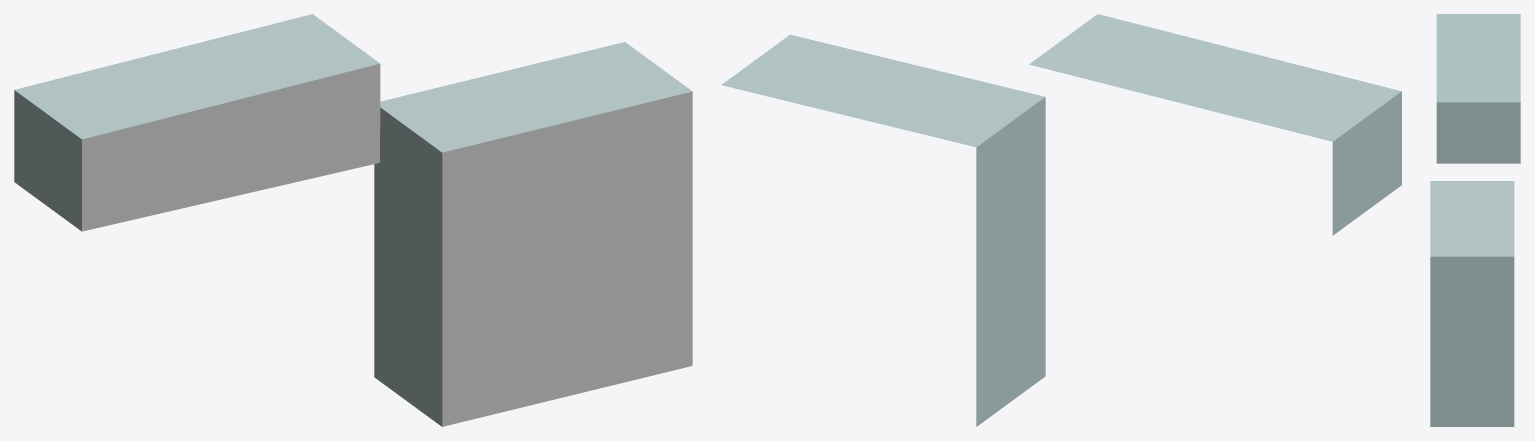
3 renders of one model, left to right at view 1: azimuth 30°, elevation 25°; view 2: azimuth 150°, elevation 25°; view 3: azimuth 270°, elevation 25°, orthographic. The views are drawn at different scales.
Visible parts, largest first — view 1: 0_3_1_2_0_3_0_3_0; view 2: 0_3_1_2_0_3_0_3_0; view 3: 0_3_1_2_0_3_0_3_0.
Boxes of the visible parts, x1,y1,x2,y2 form: 0_3_1_2_0_3_0_3_0: (14, 14, 692, 426); 0_3_1_2_0_3_0_3_0: (721, 14, 1401, 426); 0_3_1_2_0_3_0_3_0: (1430, 14, 1520, 426).
Size of the model in its own units: 15.48 by 9.12 by 3.23.
